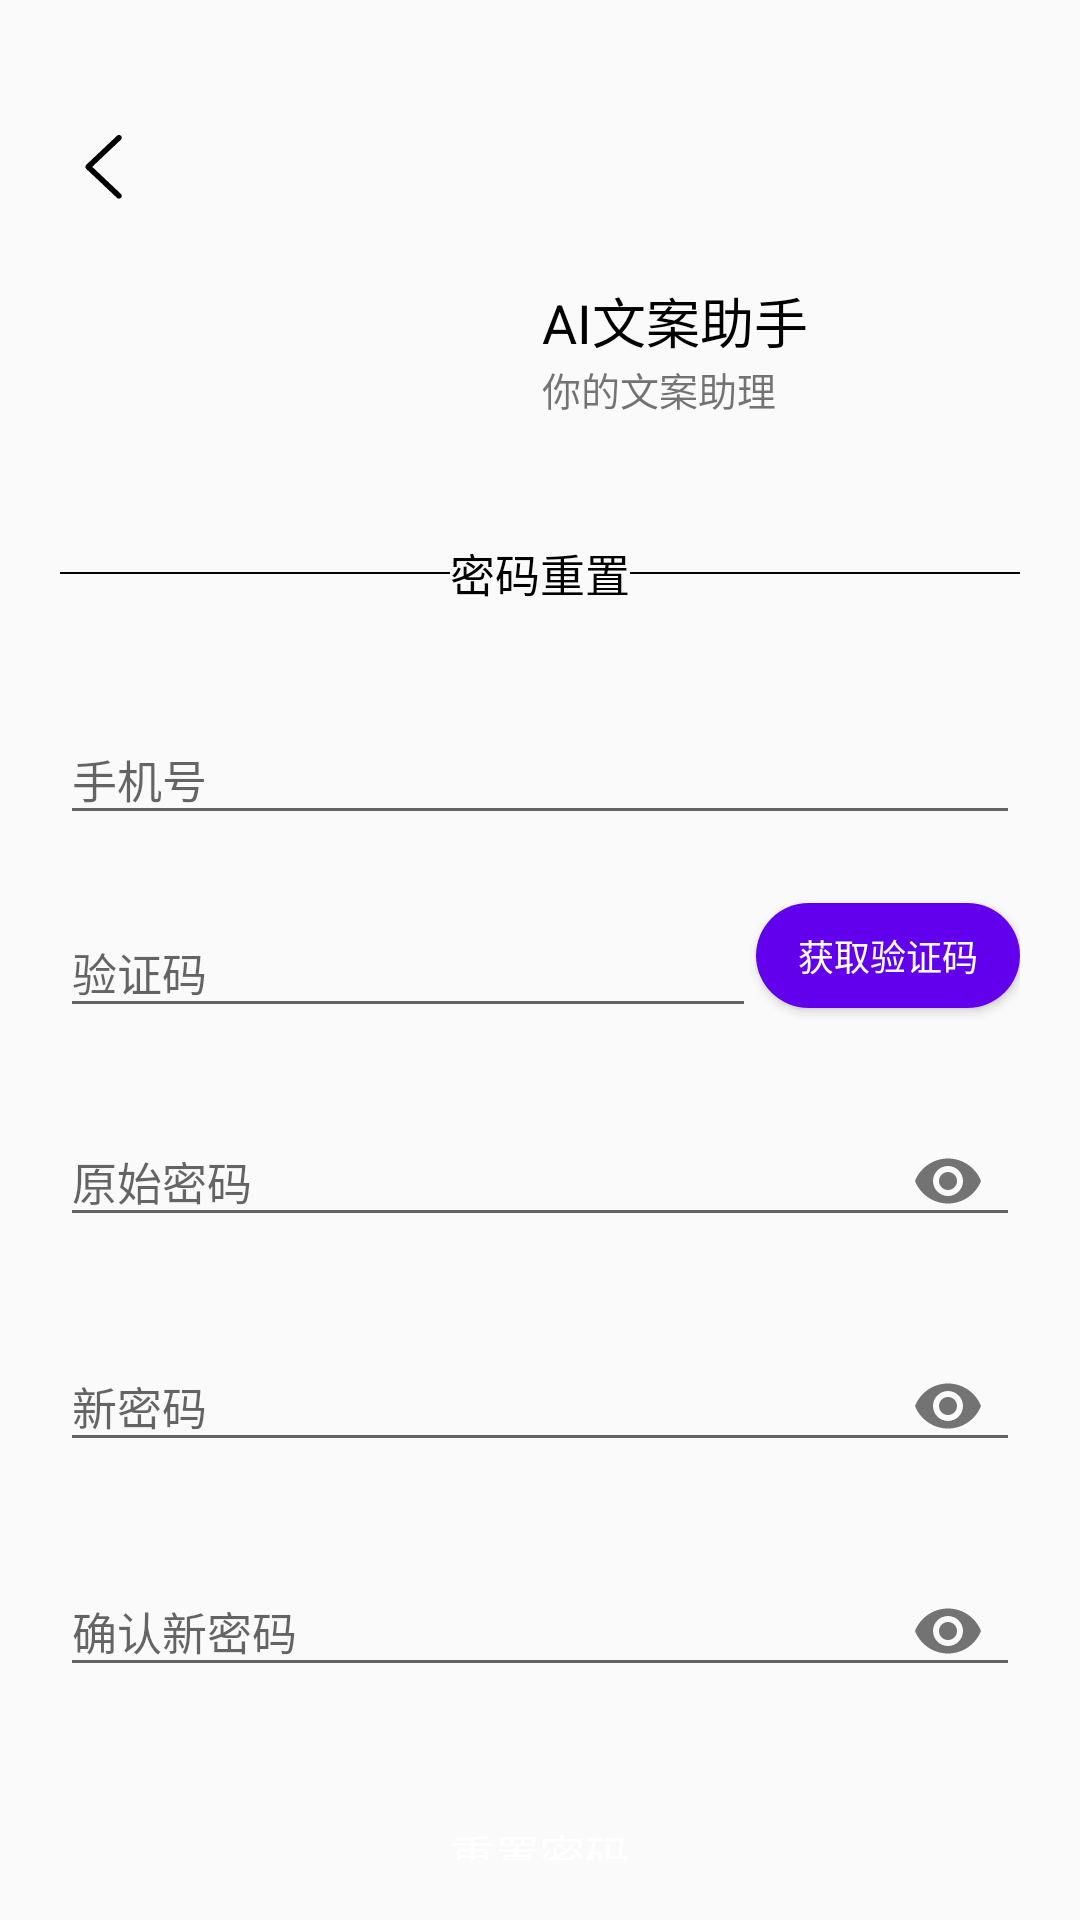

Locate icon controls on the screen. Image size 1080x1920, boxes as region(x1, y1, x2, y2).
back: region(85, 135, 122, 199)
